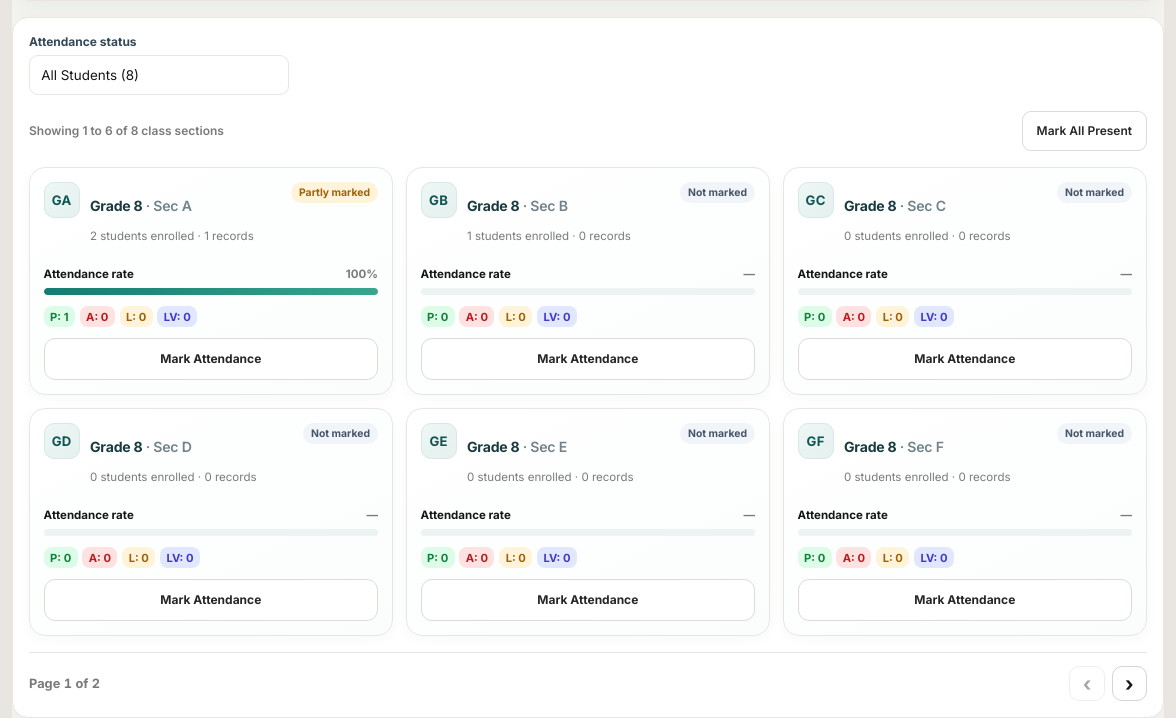
Test case: AttendanceClassesOverview › paginates class registers six at a time
The width and height of the screenshot is (1176, 718).
(page scrolled)
Check: the text "Page 1 of 2" is shown, box [29, 676, 100, 691]
Check: the heading "Grade 8 · Sec F" is shown, box [844, 438, 944, 455]
Click the button named "Next page" at (1129, 684), box [1112, 666, 1147, 701]
(page scrolled)
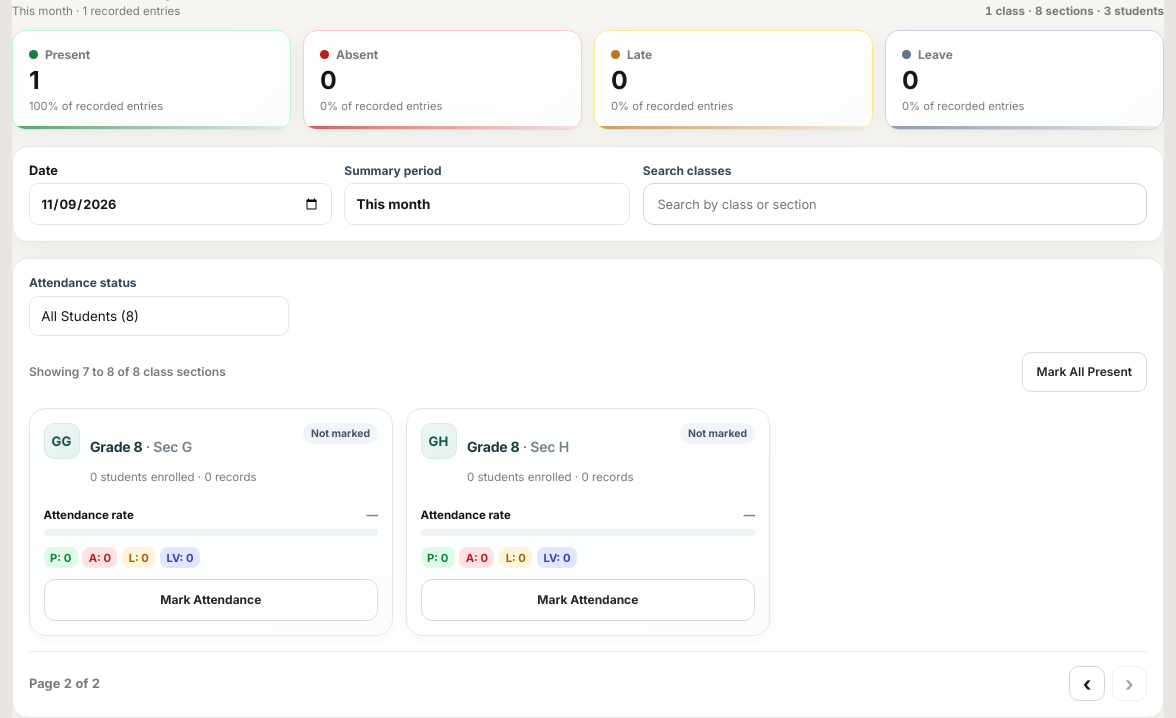
Check: the text "Page 2 of 2" is shown, box [29, 676, 100, 691]
Check: the heading "Grade 8 · Sec G" is shown, box [90, 438, 192, 455]
Check: the heading "Grade 8 · Sec A" is gone
Click the button named "Previous page" at (1087, 684), box [1069, 666, 1105, 701]
(page scrolled)
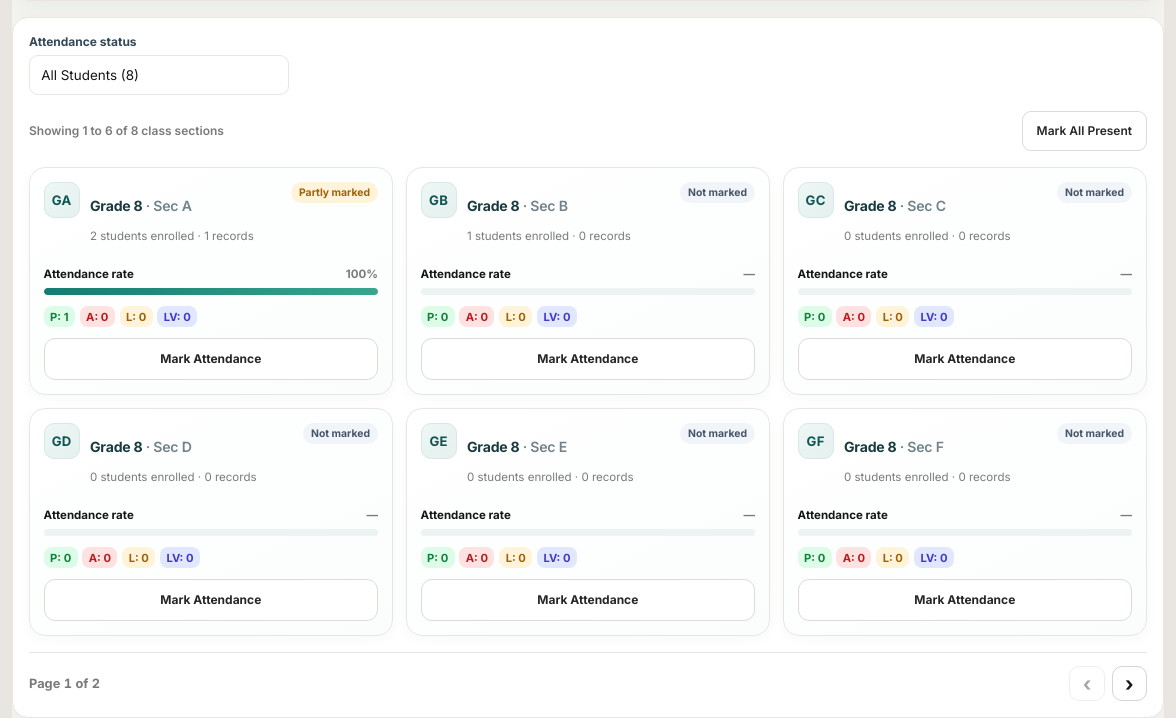
Check: the text "Page 1 of 2" is shown, box [29, 676, 100, 691]
